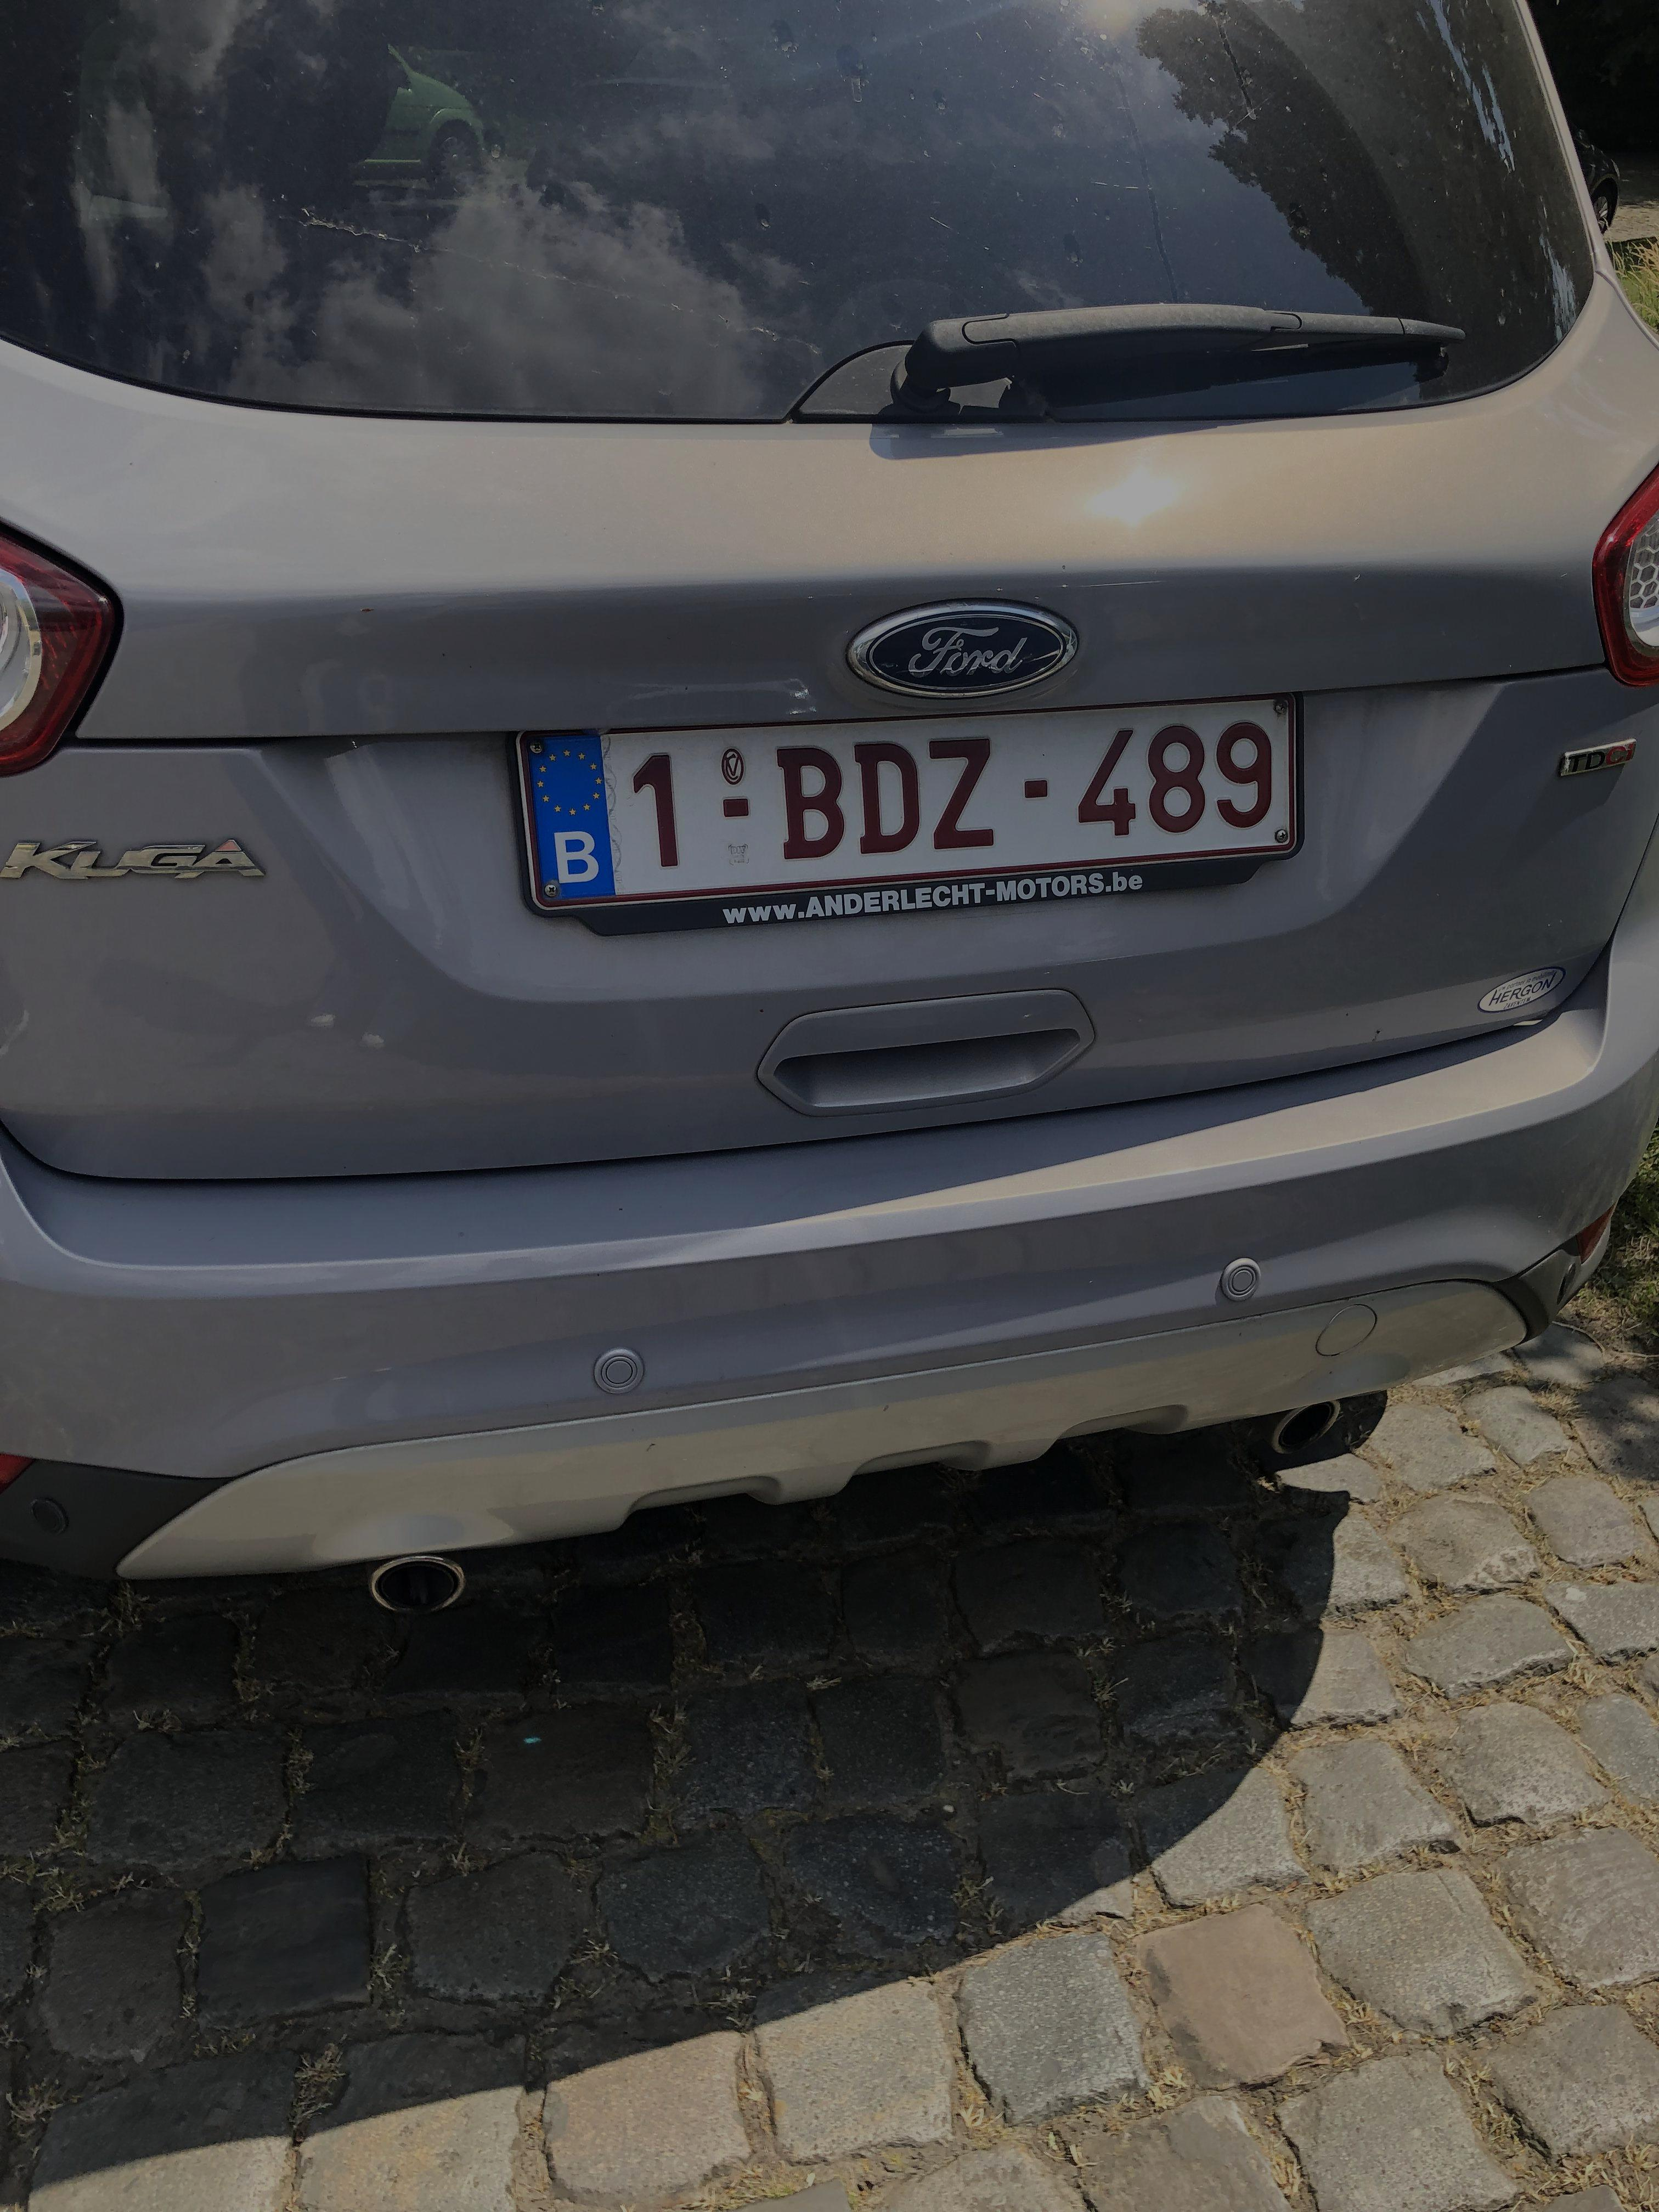plate: (491, 659, 1335, 940)
